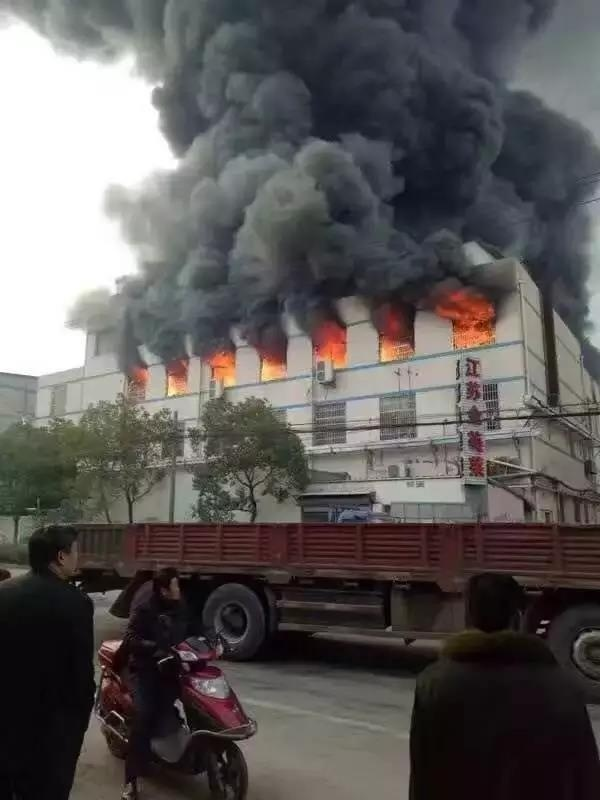fire: (438, 288, 498, 349), (377, 313, 411, 362), (314, 323, 348, 366), (209, 349, 237, 387), (259, 348, 286, 381), (166, 358, 190, 395)
